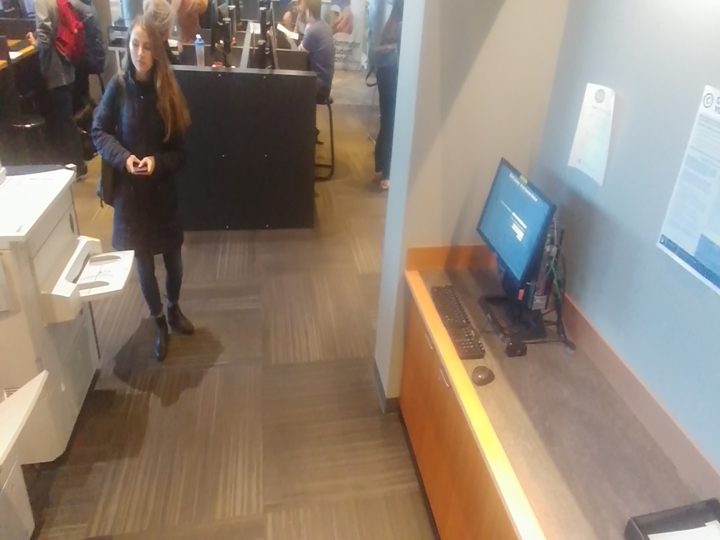face: (115, 10, 173, 88), (301, 0, 331, 28), (289, 0, 308, 20)
human: (85, 8, 201, 364), (24, 0, 99, 190), (368, 0, 404, 193), (298, 0, 340, 111)
